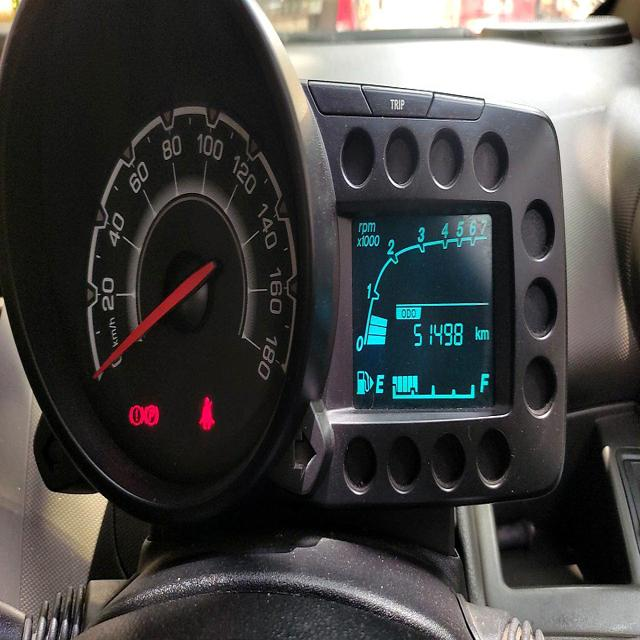odometer: (412, 318, 465, 349)
